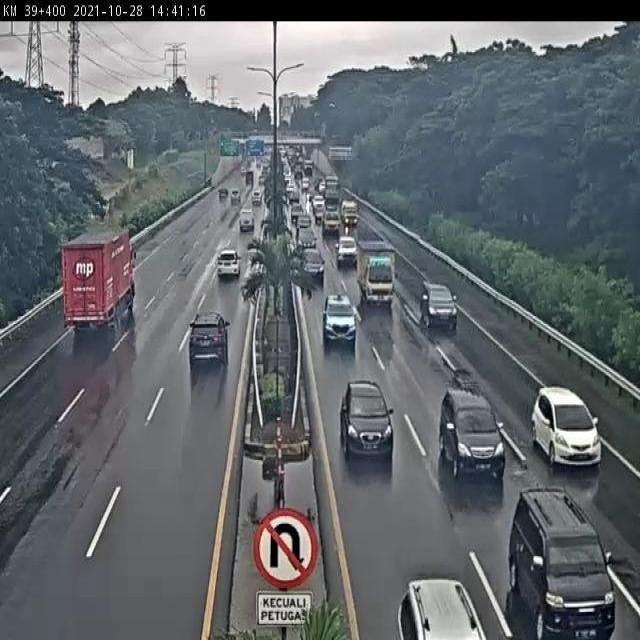car: (507, 488, 618, 640), (439, 387, 508, 479), (530, 385, 602, 468), (338, 382, 394, 462), (187, 311, 228, 367), (421, 281, 460, 331), (323, 294, 358, 346), (300, 248, 325, 284), (217, 250, 241, 278), (336, 236, 356, 264)
truck: (60, 227, 136, 332), (357, 240, 396, 305)
